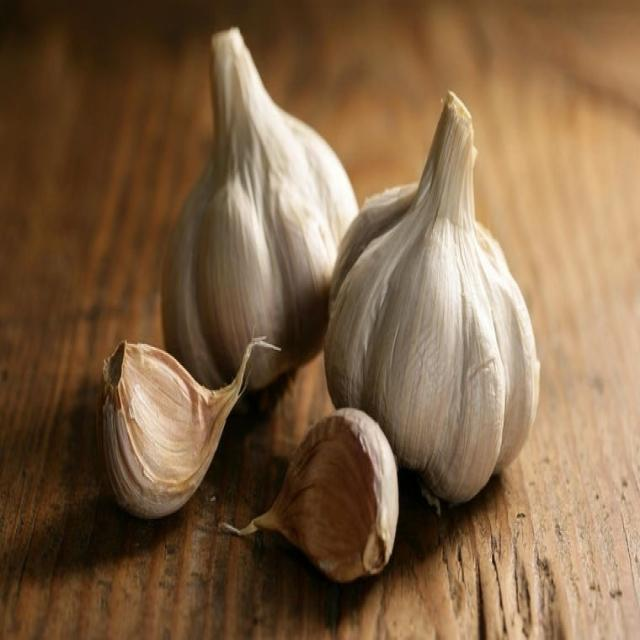garlic: (323, 91, 538, 499), (161, 27, 356, 387), (97, 336, 270, 516), (222, 407, 397, 579)
